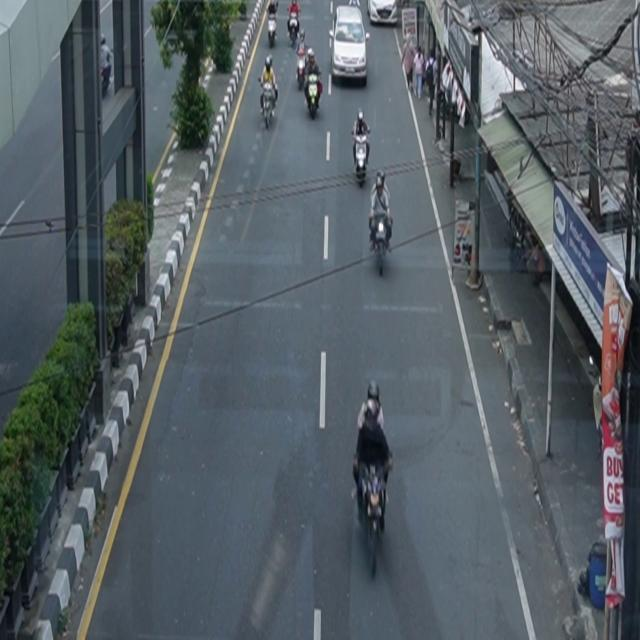car: (329, 6, 371, 87)
